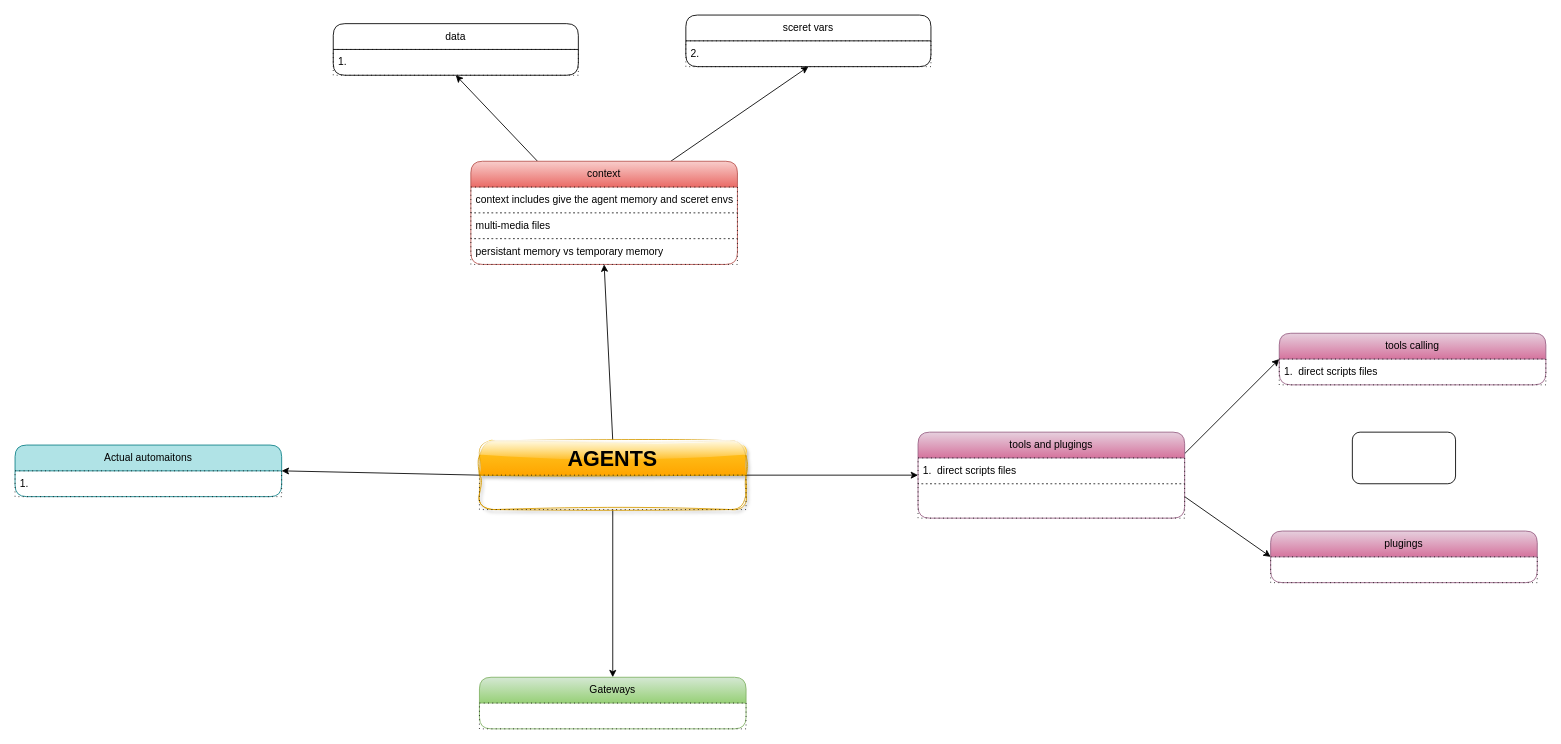
Image size: 1561x744. Some labels were removed from this diagram. The shapes that lost their labels are listed below. From the top down, each one's centre as x and y in pixels, then its label:
At point 1403,457: "MCP Server".
At point 612,492: "Even of the multiple agent , these can be sperated or shared".
At point 1051,500: "2. custom server expose the api that will execute the scripts".
At point 1403,569: "Thrid party apis".
At point 612,715: "Item 1".
